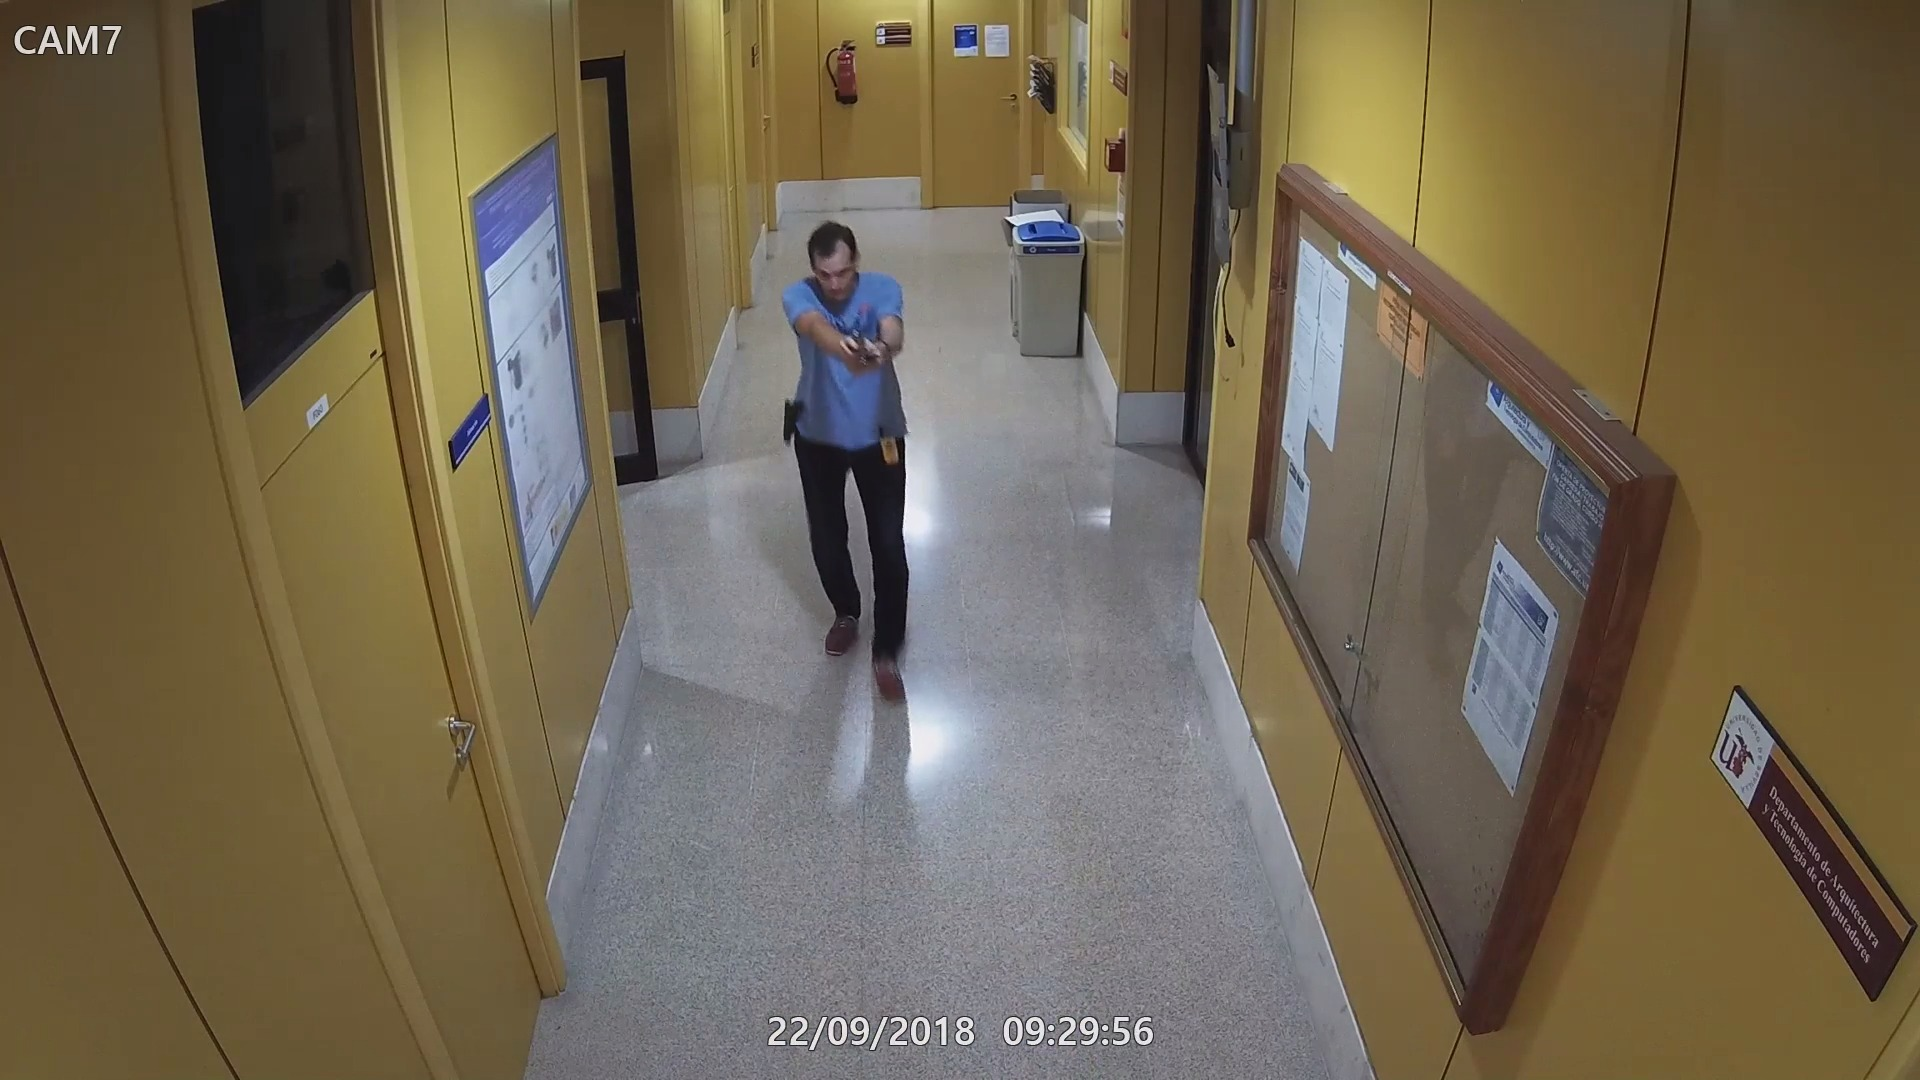Handgun: (841, 324, 866, 364)
Knife: (861, 332, 889, 357)
